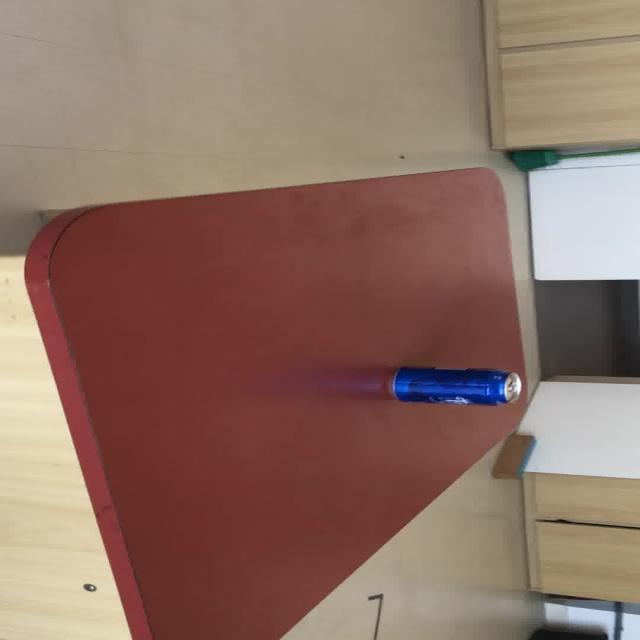tonic: (304, 364, 522, 406), (387, 365, 522, 406)
